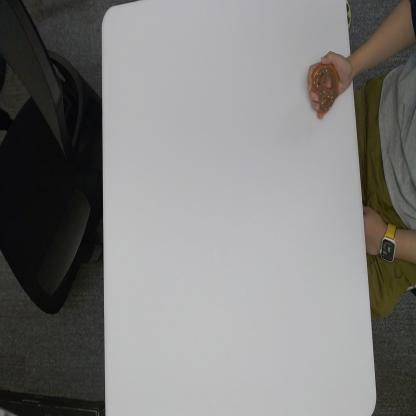Pretzel: (312, 59, 338, 114)
